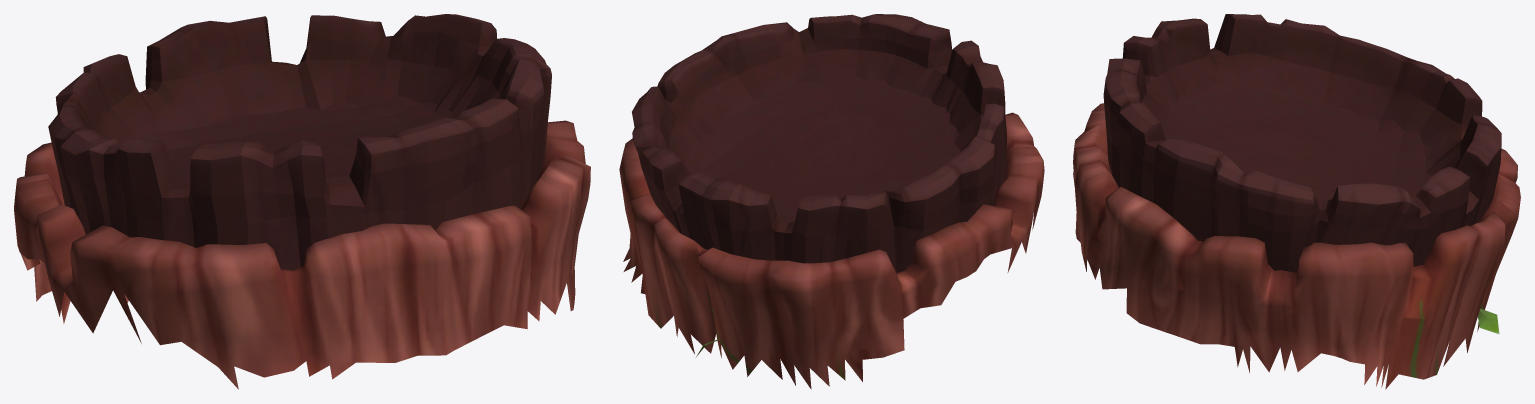
File: torchwood_fuego.obj
The picture shows the model from 3 angles, left to right: view 1: azimuth 30°, elevation 25°; view 2: azimuth 150°, elevation 25°; view 3: azimuth 270°, elevation 25°; orthographic projection. The views are drawn at different scales.
Visible parts, largest first — view 1: torchwood_fuego; view 2: torchwood_fuego; view 3: torchwood_fuego.
Part boxes in pixels (x1=…): torchwood_fuego: x1=14, y1=14, x2=590, y2=389; torchwood_fuego: x1=619, y1=14, x2=1044, y2=389; torchwood_fuego: x1=1073, y1=14, x2=1520, y2=389.
Bounding box in the file's own units: 1.34 × 0.8231 × 1.3.
